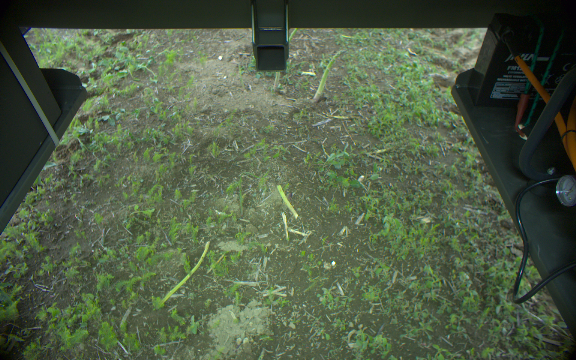aspa: (156, 242, 210, 307), (314, 49, 347, 101), (272, 182, 298, 219), (287, 28, 300, 45), (274, 72, 281, 90)
